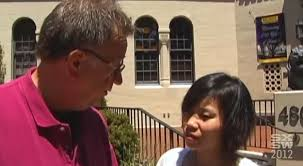asian_female: (168, 69, 245, 166)
